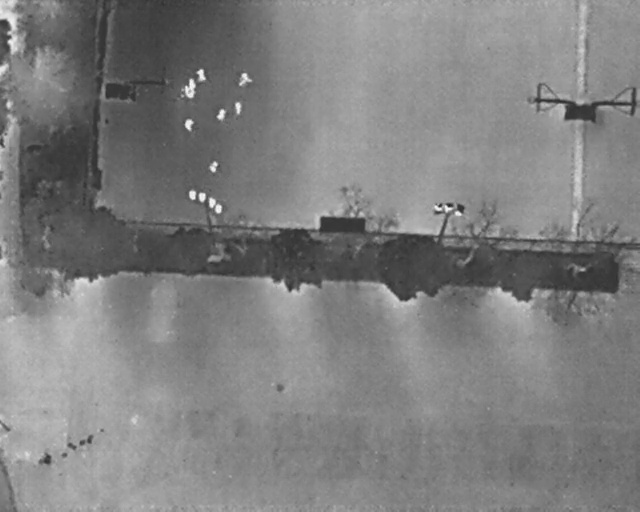Person: (236, 71, 254, 86), (214, 106, 229, 122), (194, 67, 207, 83), (184, 117, 195, 132), (184, 85, 195, 99), (208, 159, 219, 173), (233, 101, 242, 115), (188, 77, 196, 91)
